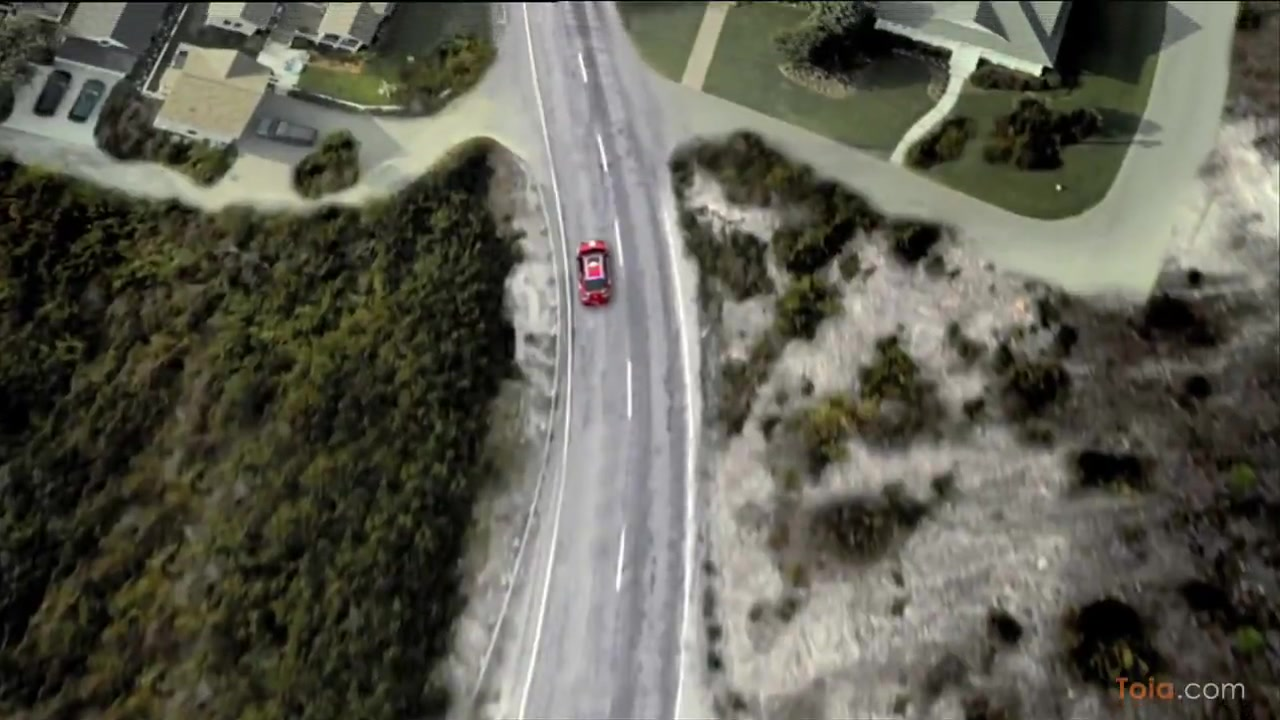car: (575, 235, 619, 313)
